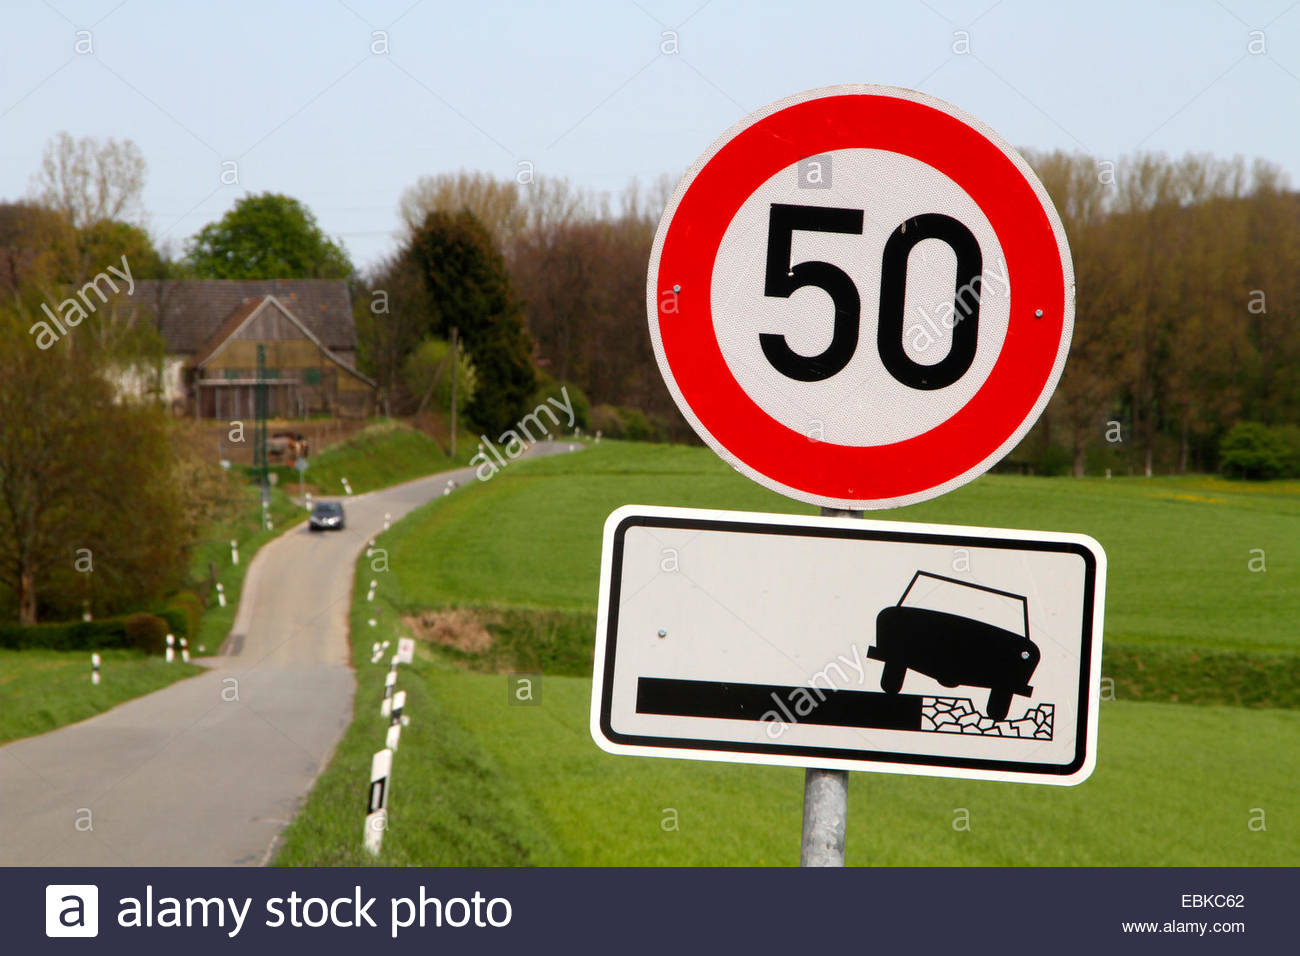Speed_limit_50km: (639, 94, 1085, 522)
